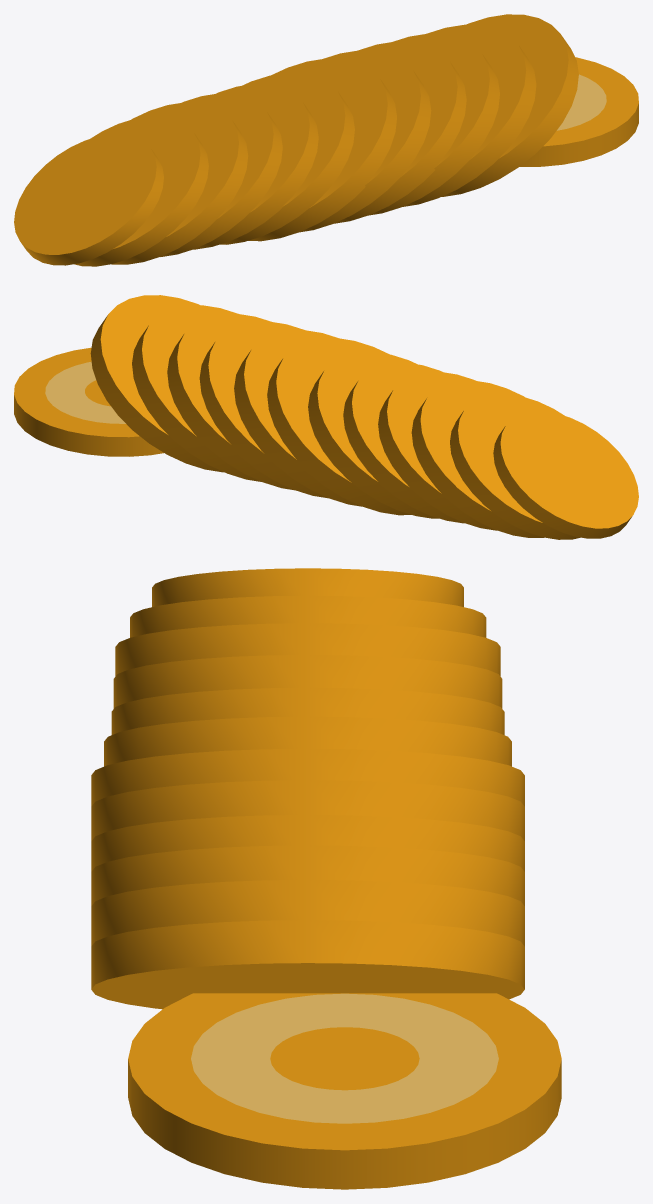
The model's file is Wortel snij2.fbx.
The picture shows the model from 3 angles, top to bottom: view 1: azimuth 30°, elevation 25°; view 2: azimuth 150°, elevation 25°; view 3: azimuth 270°, elevation 25°; orthographic projection. The views are drawn at different scales.
Visible parts, largest first — view 1: Cylinder; view 2: Cylinder; view 3: Cylinder.
Part boxes in pixels (<box>): Cylinder: <box>14,14,638,266</box>; Cylinder: <box>14,295,638,539</box>; Cylinder: <box>91,568,561,1189</box>.
Bounding box in the file's own units: 628 × 123 × 217.
